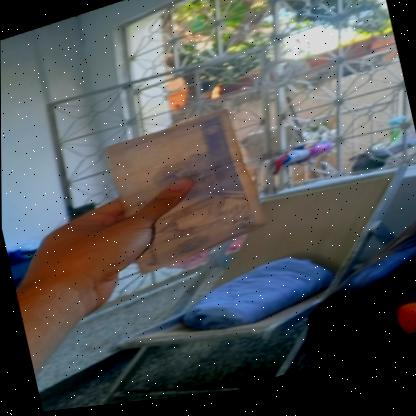ten-back-vef: (104, 105, 271, 281)
